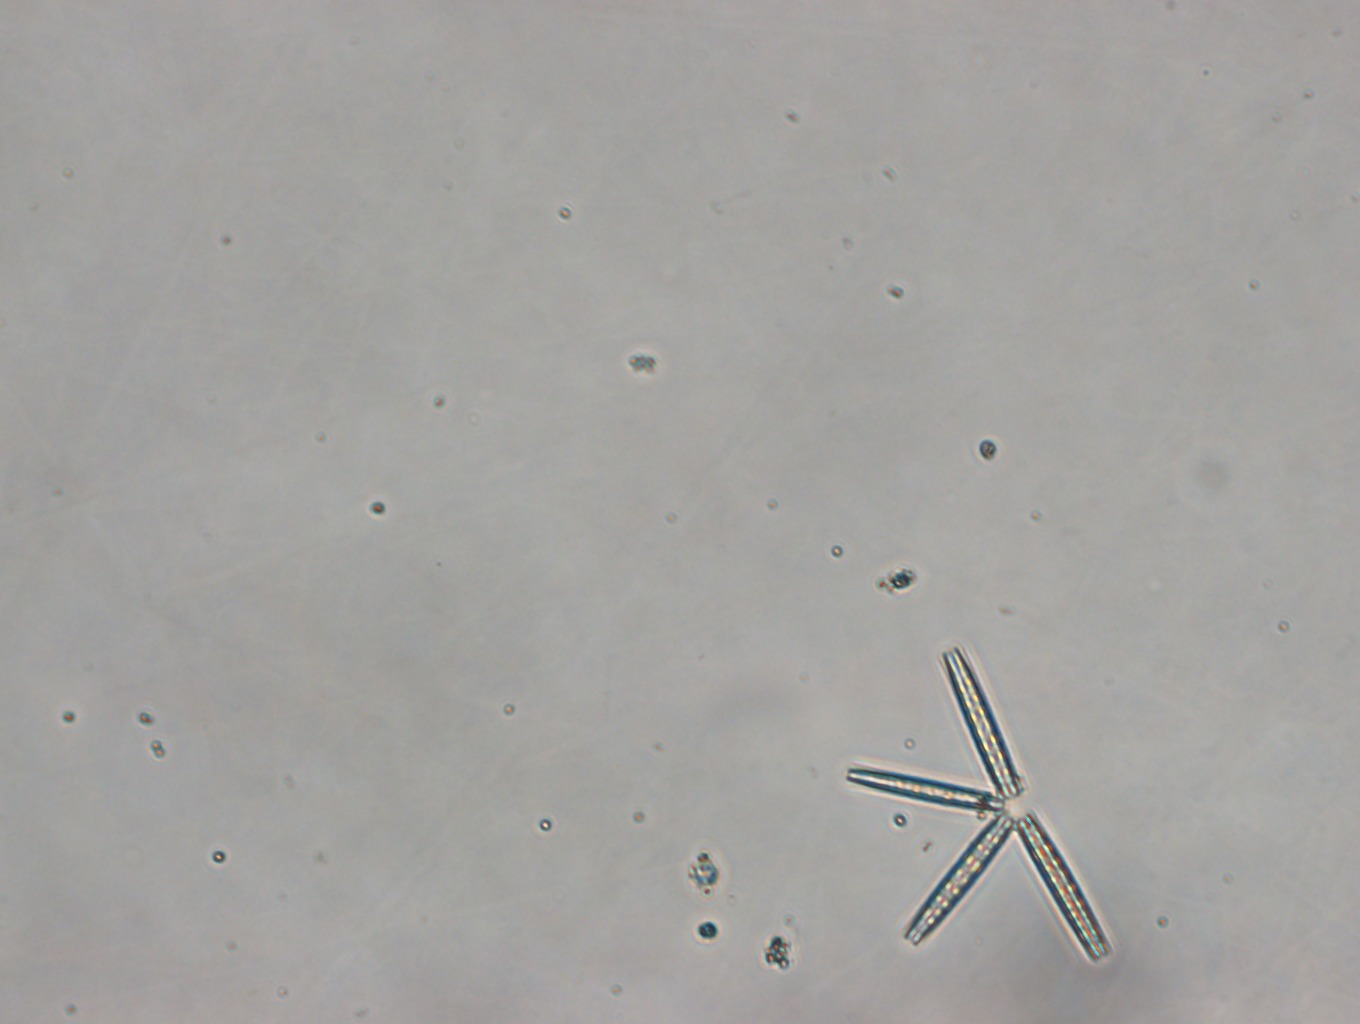thalassionema nitzschioides: (844, 644, 1115, 963)
